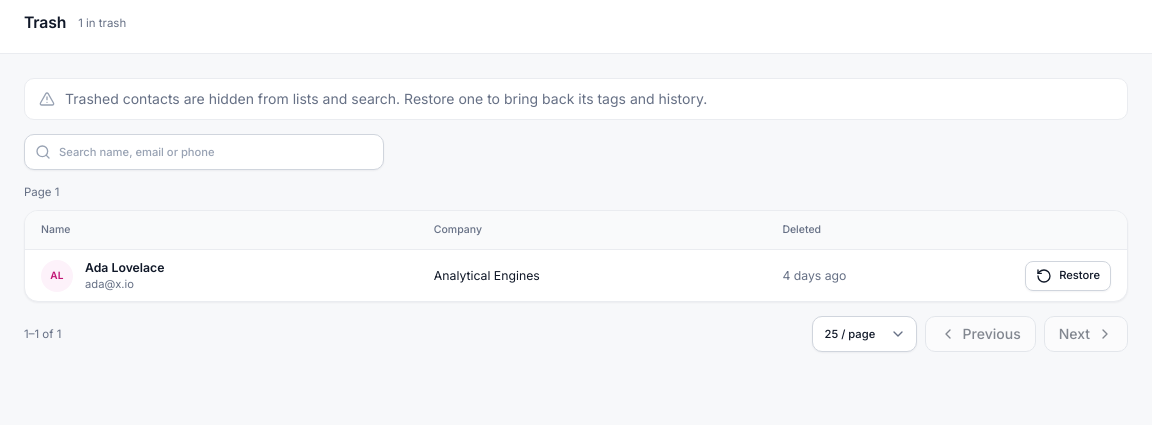
Test case: ContactsView - trash › explains an email clash on restore and links to the contact that owns the email
The image size is (1152, 425).
Click the button "Restore".
click(1068, 276)  # box [1025,260,1111,290]
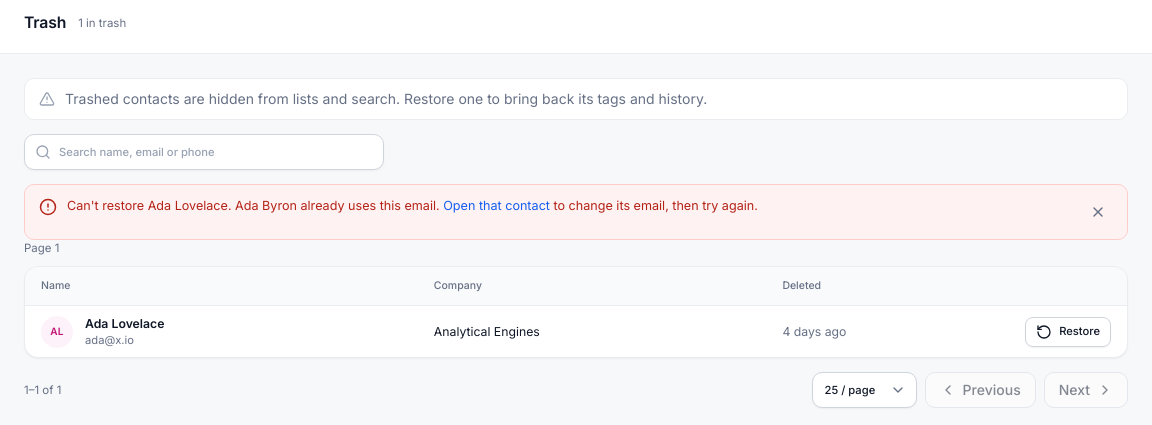
Now the message with class "danger" is shown, box [24,184,1128,240]
Now the message with class "banner" shows "Can't restore Ada Lovelace", box [67,198,443,213]
Now the message with class "banner" shows "Ada Byron already uses this email", box [67,198,443,213]
